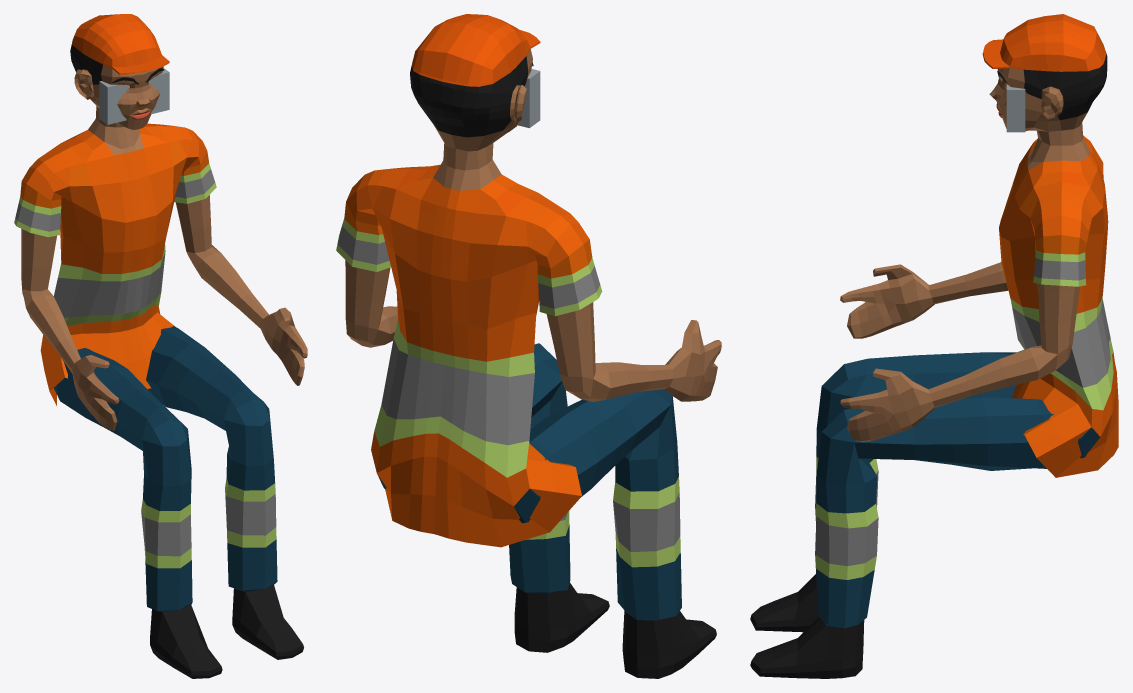
Rendered from Garbageman_Sit_Mask.fbx.
The picture shows the model from 3 angles, left to right: view 1: azimuth 30°, elevation 25°; view 2: azimuth 150°, elevation 25°; view 3: azimuth 270°, elevation 25°; orthographic projection. The views are drawn at different scales.
Visible parts, largest first — view 1: Garbageman_Sit_Mask; view 2: Garbageman_Sit_Mask; view 3: Garbageman_Sit_Mask.
Part boxes in pixels (x1,y1,x2,y2): Garbageman_Sit_Mask: [14, 14, 307, 678]; Garbageman_Sit_Mask: [336, 14, 721, 678]; Garbageman_Sit_Mask: [750, 14, 1118, 678].
Size of the model in its own units: 0.3234 by 0.8093 by 0.4319.
